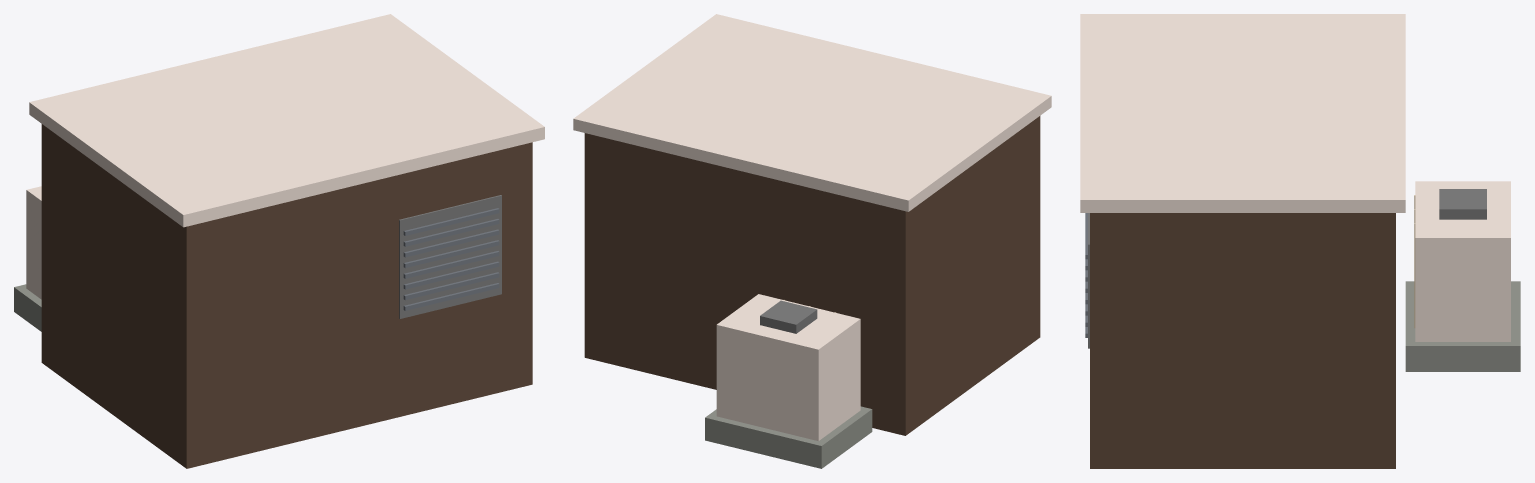
Rendered from roofprop_close.fbx.
3 views of the same model, side by side, from view 1: azimuth 30°, elevation 25°; view 2: azimuth 150°, elevation 25°; view 3: azimuth 270°, elevation 25° (orthographic). The views are drawn at different scales.
Parts seen in each view (by area): view 1: a2001/800/roofprop_close; view 2: a2001/800/roofprop_close; view 3: a2001/800/roofprop_close.
Boxes of the visible parts, left/top/right/bottom form: a2001/800/roofprop_close: left=14, top=14, right=544, bottom=468; a2001/800/roofprop_close: left=573, top=14, right=1051, bottom=468; a2001/800/roofprop_close: left=1080, top=14, right=1520, bottom=468.
Size of the model in its own units: 4.6 by 3.15 by 4.6.
